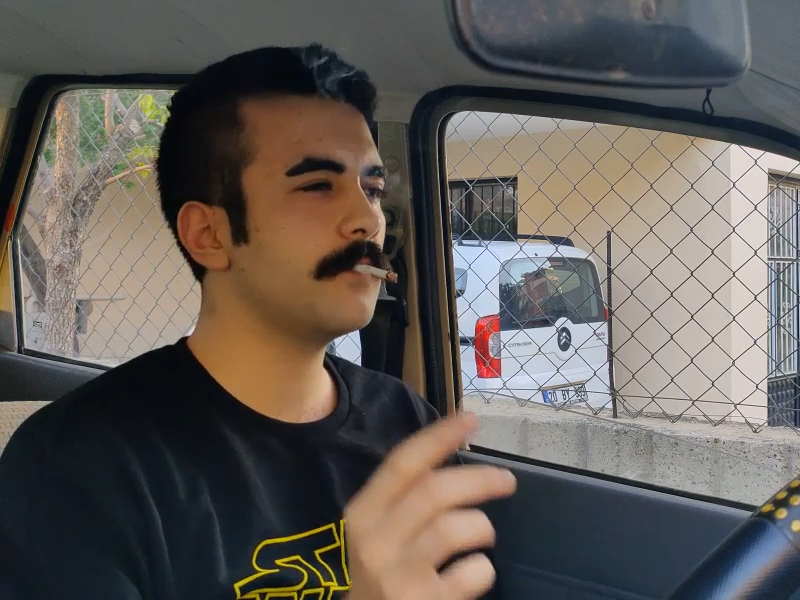sigara: (347, 259, 405, 285)
